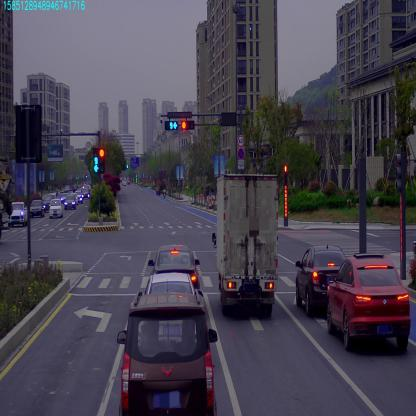traffic-light: (182, 121, 196, 129), (164, 121, 177, 128)
